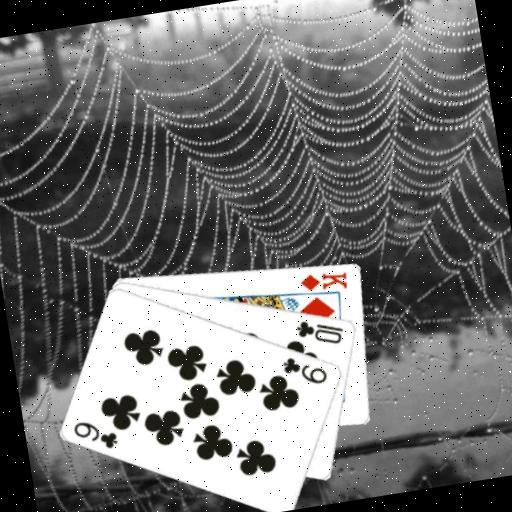10C: (292, 311, 347, 351)
9C: (69, 413, 121, 456), (278, 349, 330, 391)
KD: (295, 265, 350, 297)
